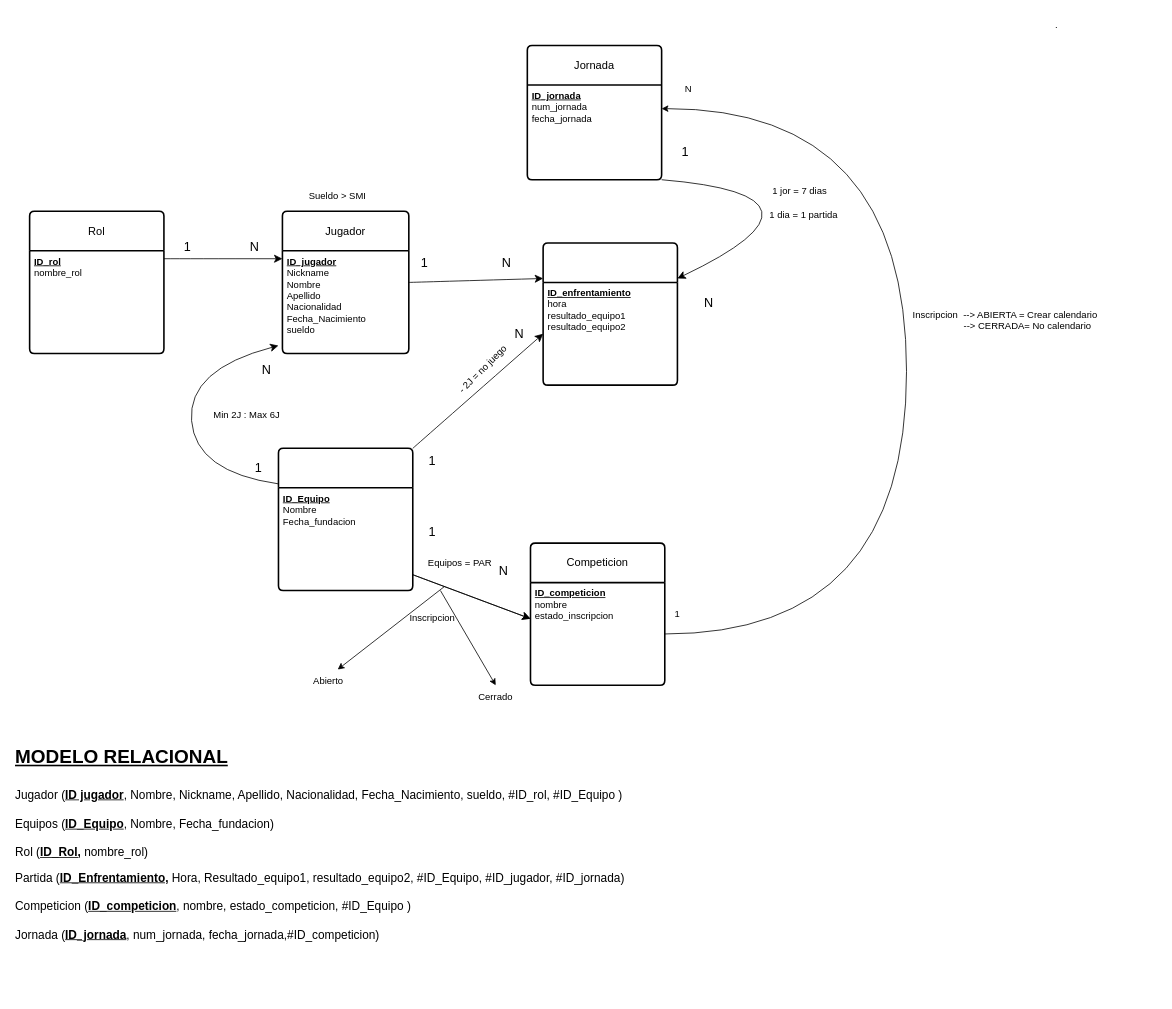
This 1172x1009 diagram has some shape labels left out. Each missing label, with the box of its shape:
Equipos: (277, 447, 413, 591)
Partida: (542, 242, 678, 386)
